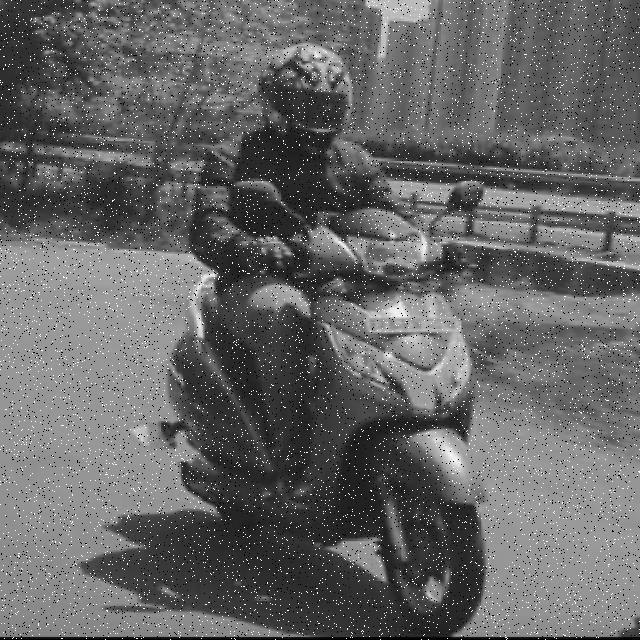Motorbike: (133, 45, 490, 635)
